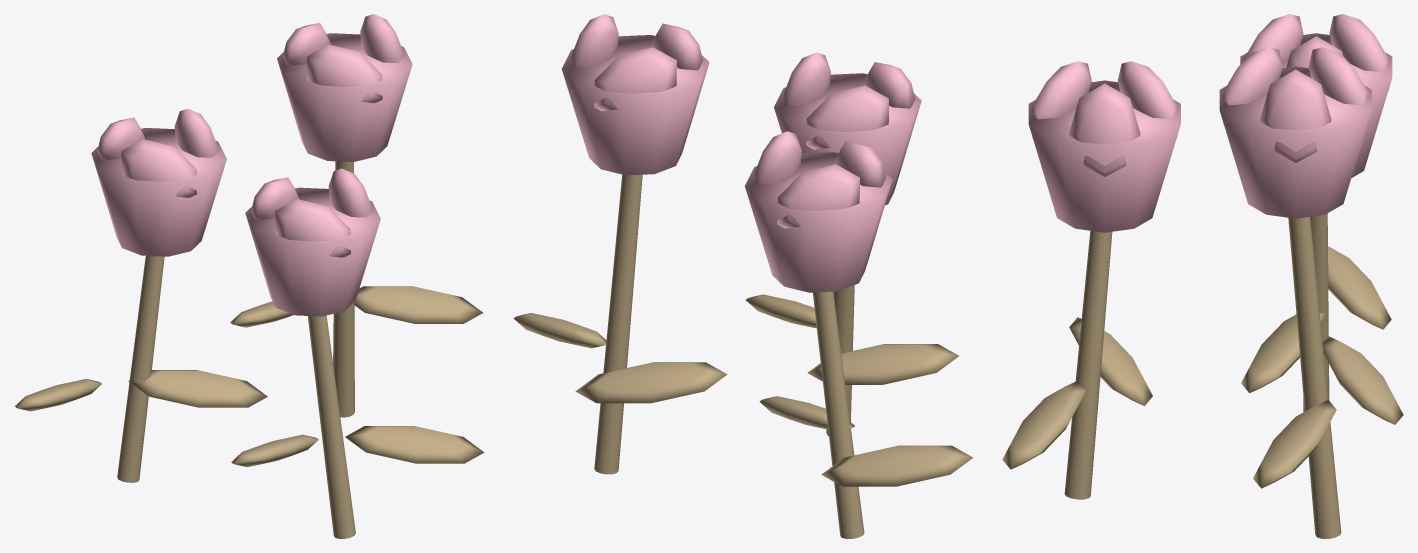
Rendered from flower_0_autumn.glb.
3 views of the same model, side by side, from view 1: azimuth 30°, elevation 25°; view 2: azimuth 150°, elevation 25°; view 3: azimuth 270°, elevation 25° (orthographic). The views are drawn at different scales.
Bounding box in the file's own units: 0.5021 × 0.4592 × 0.3362.
